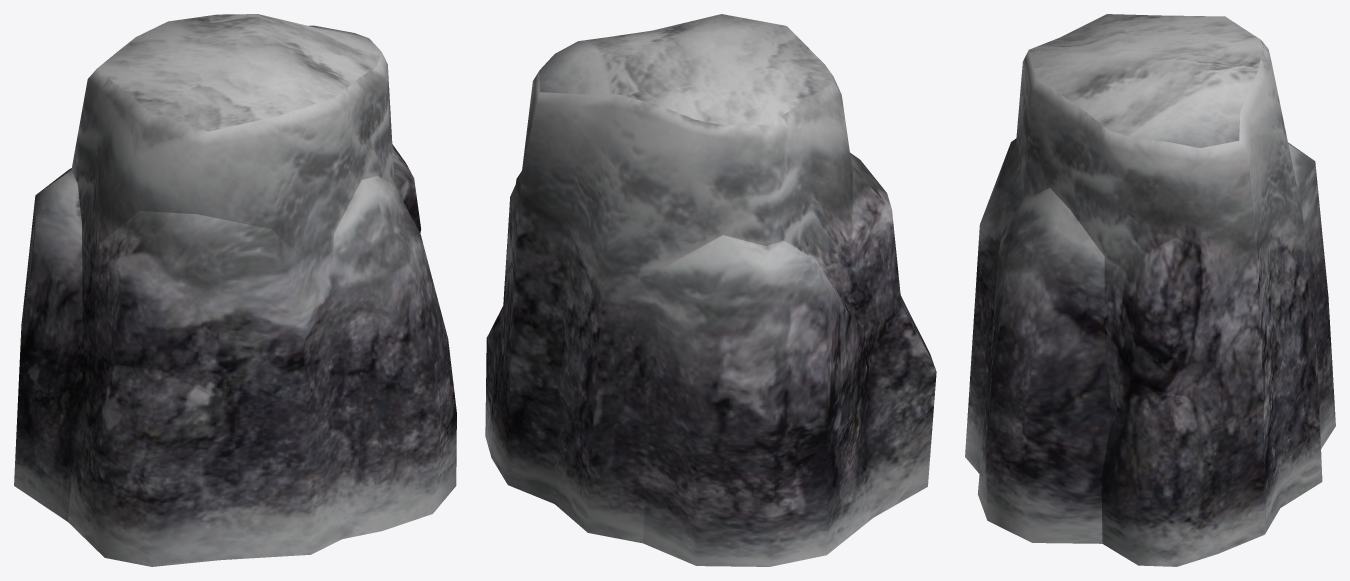
The model's file is snow_d_a02a.fbx.
3 views of the same model, side by side, from view 1: azimuth 30°, elevation 25°; view 2: azimuth 150°, elevation 25°; view 3: azimuth 270°, elevation 25° (orthographic).
Visible parts, largest first — view 1: d_a02a; view 2: d_a02a; view 3: d_a02a.
Boxes of the visible parts, x1=… form: d_a02a: x1=14, y1=14, x2=456, y2=566; d_a02a: x1=485, y1=14, x2=936, y2=566; d_a02a: x1=965, y1=14, x2=1335, y2=566.
Size of the model in its own units: 943 by 989 by 784.
